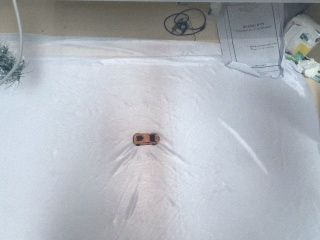toy_car: (133, 133, 160, 146)
